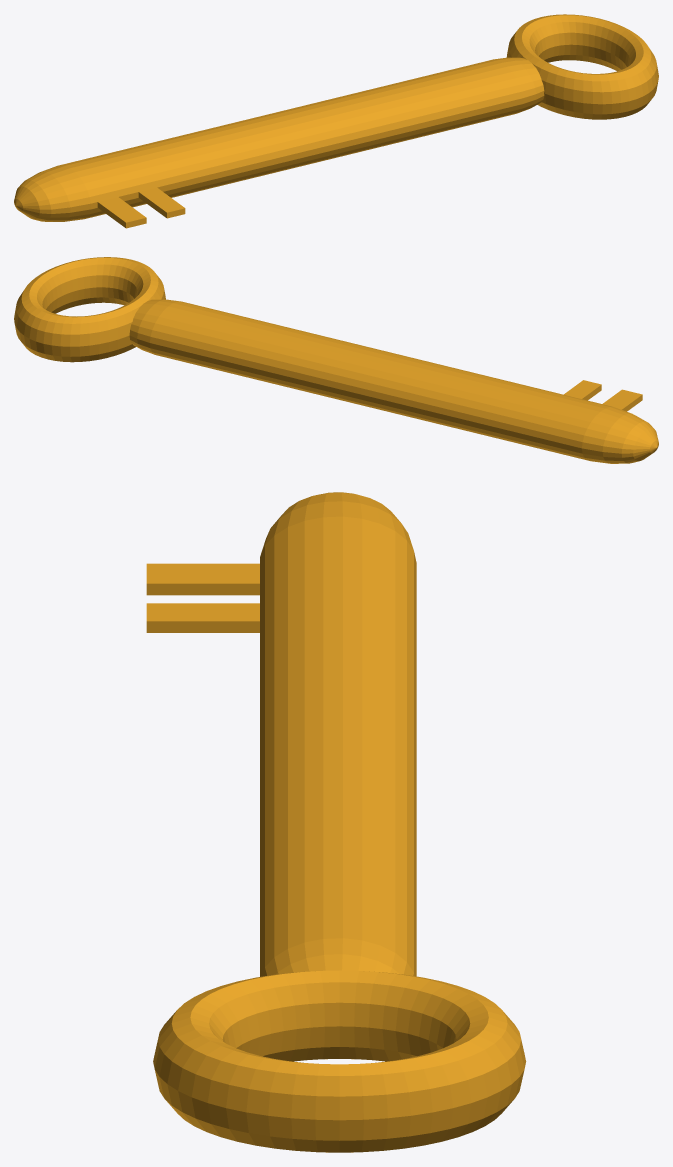
The model's file is Key_Gold.fbx.
3 views of the same model, one above another, from view 1: azimuth 30°, elevation 25°; view 2: azimuth 150°, elevation 25°; view 3: azimuth 270°, elevation 25° (orthographic). The views are drawn at different scales.
Visible parts, largest first — view 1: Key_Gold; view 2: Key_Gold; view 3: Key_Gold.
Boxes of the visible parts, bbox=[...] form: Key_Gold: bbox=[14, 14, 658, 228]; Key_Gold: bbox=[14, 257, 658, 463]; Key_Gold: bbox=[146, 492, 526, 1152].
Bounding box in the file's own units: 8.51 × 0.6 × 2.23.
